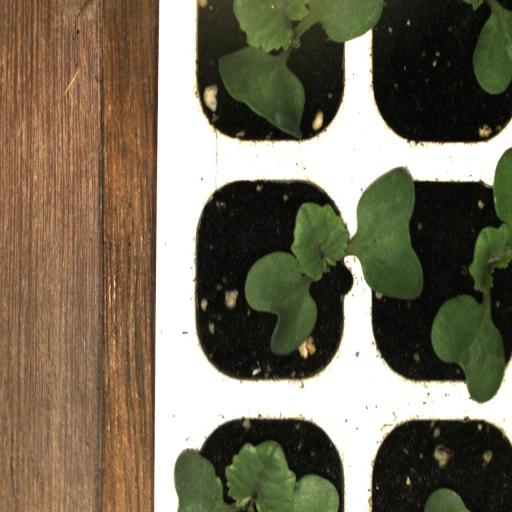Folha: (209, 0, 387, 138), (431, 295, 507, 404), (469, 148, 512, 294)
Germinacao: (180, 162, 365, 398)
